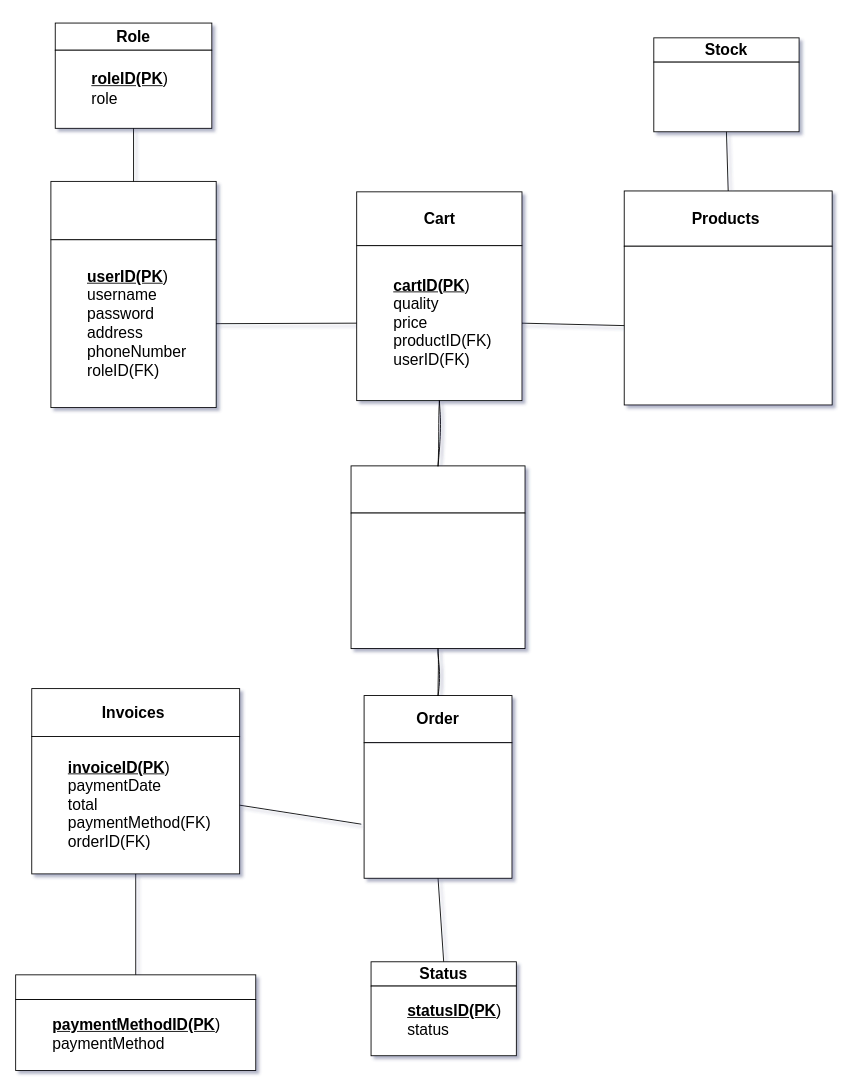
The diagram is 853 pixels wide and 1092 high, and some of its shapes have lost their labels. The centre of each missing label's shape, as x and y in pixels:
"Cart_Order" goes at (x=437, y=489).
"cartID(FK) orderID(FK)" goes at (x=437, y=580).
"orderID(PK ) orderDate quality statusID(FK) userID(FK)" goes at (x=437, y=810).
"PaymentMethod" goes at (x=135, y=987).
"productID(PK ) Image productName description quality price stockID(FK)" goes at (x=727, y=325).
"stockID(PK ) stock" goes at (x=726, y=96).
"User" goes at (x=133, y=210).
